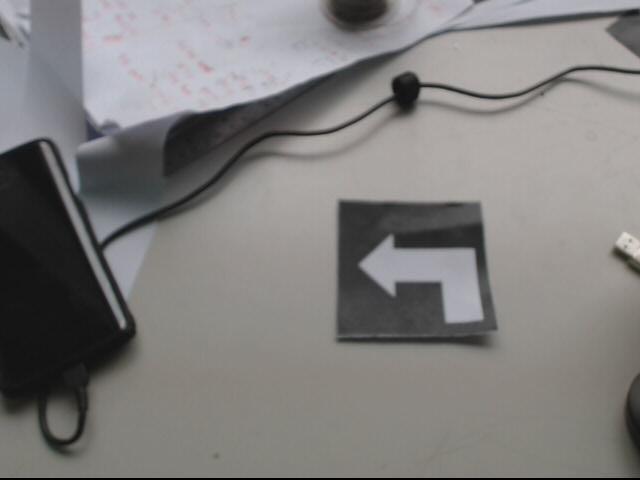left: (337, 199, 501, 341)
